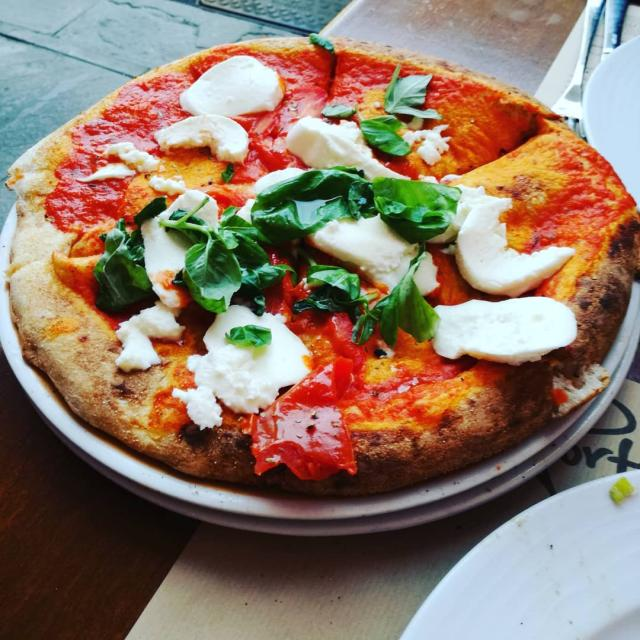basil: (349, 242, 448, 346), (157, 193, 240, 314), (248, 162, 377, 238), (368, 170, 466, 243), (94, 218, 154, 313), (289, 255, 366, 324), (235, 253, 302, 314), (382, 61, 449, 121), (220, 205, 270, 267), (352, 112, 410, 160), (222, 322, 274, 349), (130, 195, 167, 225), (320, 100, 358, 120), (307, 31, 336, 56), (219, 158, 242, 186)
pizza: (0, 31, 640, 500)
tomatoes: (248, 355, 369, 484)
